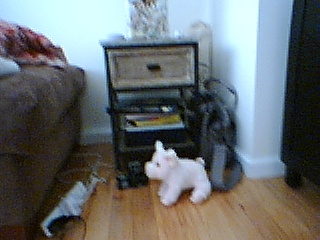piggy: (144, 139, 213, 207)
